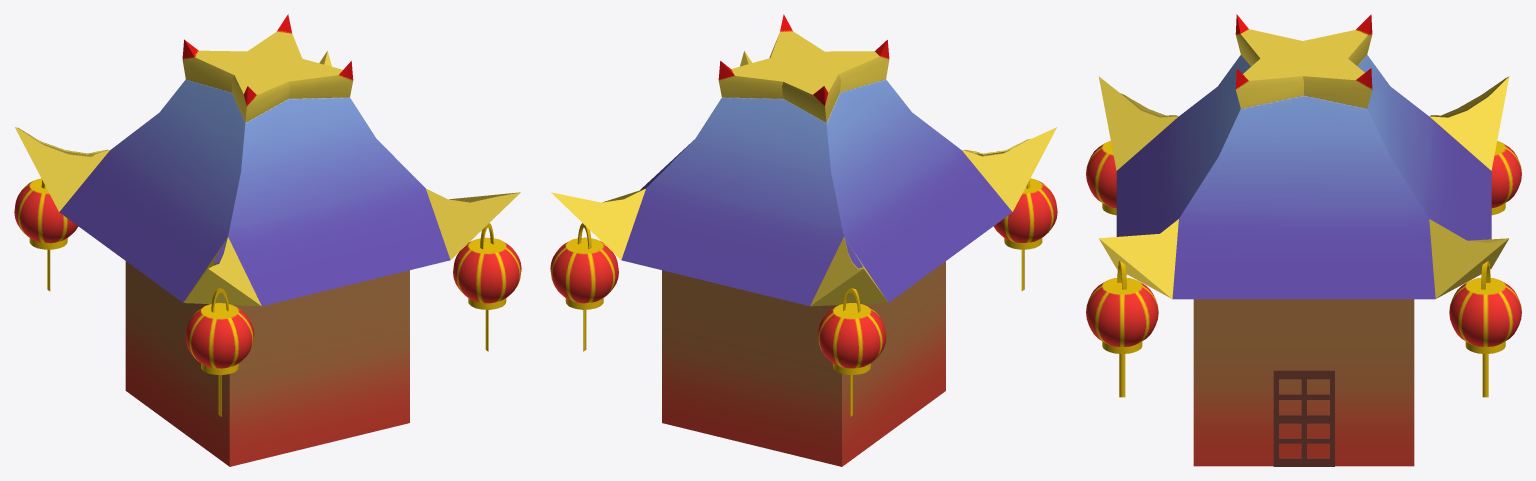
The model's file is house 1.fbx.
The picture shows the model from 3 angles, left to right: view 1: azimuth 30°, elevation 25°; view 2: azimuth 150°, elevation 25°; view 3: azimuth 270°, elevation 25°; orthographic projection. The views are drawn at different scales.
Visible parts, largest first — view 1: house 1; view 2: house 1; view 3: house 1.
Boxes of the visible parts, left/top/right/bottom form: house 1: left=14, top=14, right=521, bottom=466; house 1: left=550, top=14, right=1057, bottom=466; house 1: left=1086, top=14, right=1521, bottom=466.
Size of the model in its own units: 571 by 596 by 622.
